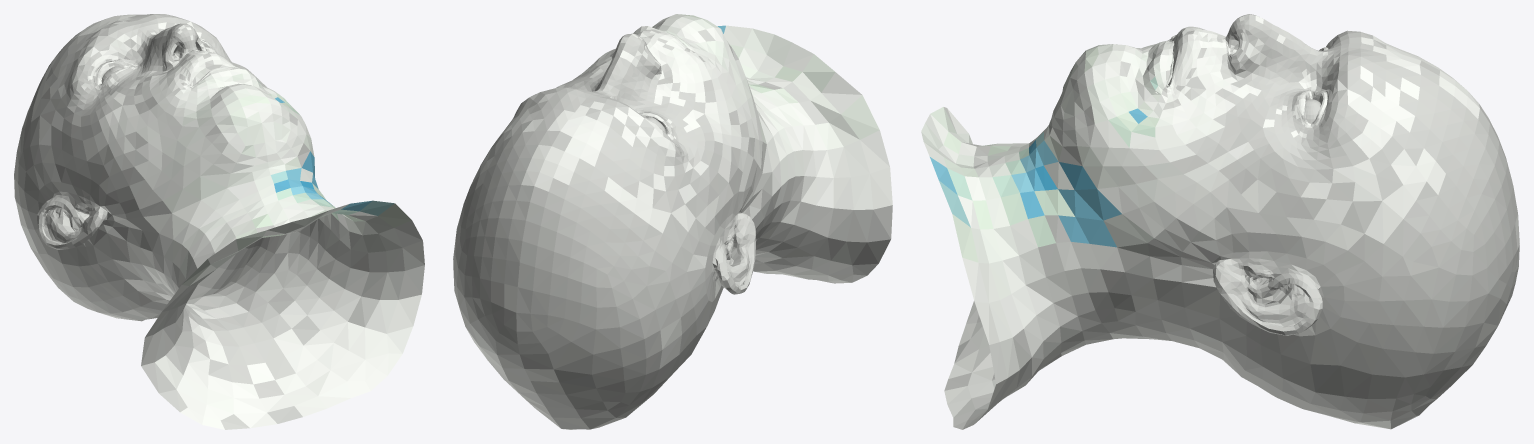
The model's file is comagsatspiralconv_0.glb.
3 views of the same model, side by side, from view 1: azimuth 30°, elevation 25°; view 2: azimuth 150°, elevation 25°; view 3: azimuth 270°, elevation 25° (orthographic). The views are drawn at different scales.
Parts seen in each view (by area): view 1: imagetostl_mesh0; view 2: imagetostl_mesh0; view 3: imagetostl_mesh0.
Part boxes in pixels (bbox=[...]): imagetostl_mesh0: bbox=[14, 14, 424, 429]; imagetostl_mesh0: bbox=[453, 14, 892, 429]; imagetostl_mesh0: bbox=[921, 14, 1519, 429].
Bounding box in the file's own units: 220 × 247 × 325.
